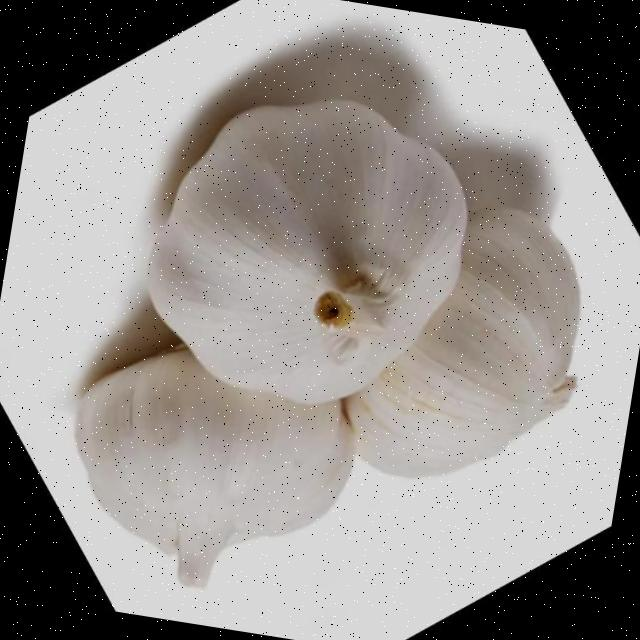garlic: (148, 99, 467, 403), (74, 349, 353, 587), (344, 207, 579, 477)
